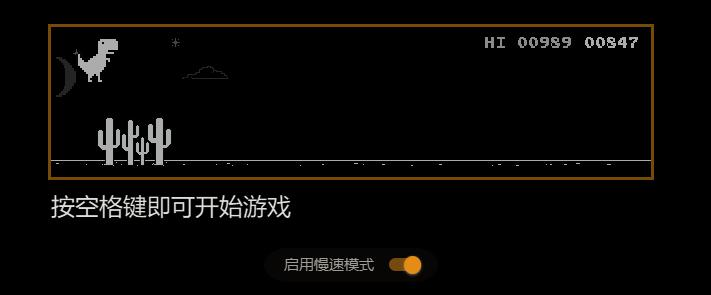cactus: (97, 117, 172, 166)
dino: (74, 38, 119, 83)
